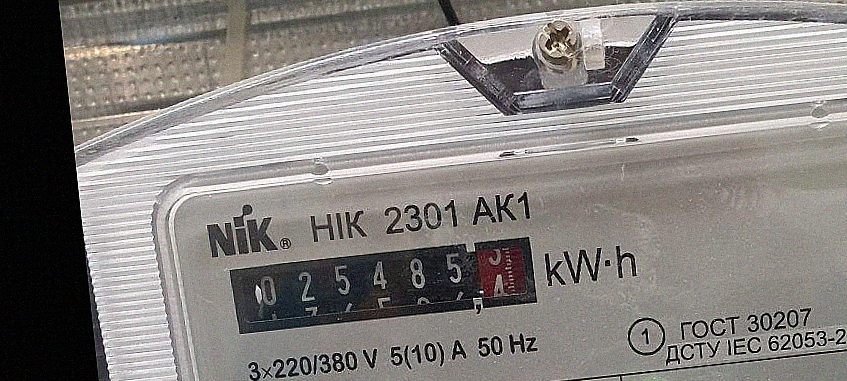0: (255, 270, 280, 307)
2: (294, 266, 317, 303)
4: (366, 256, 391, 292), (487, 269, 509, 299)
5: (441, 248, 466, 287), (329, 260, 353, 297)
8: (405, 252, 429, 292)
screen: (219, 227, 547, 346)
